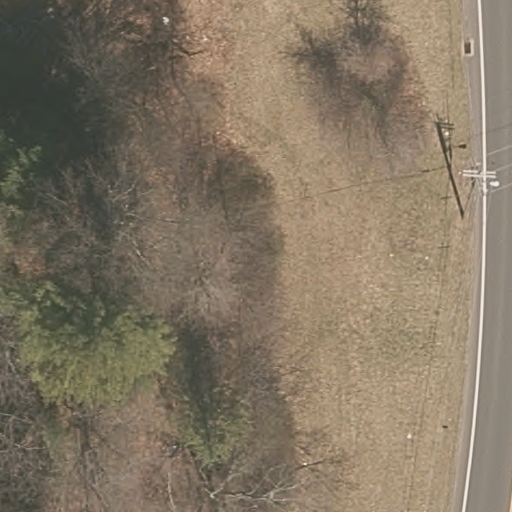DT: (462, 168, 497, 182)
